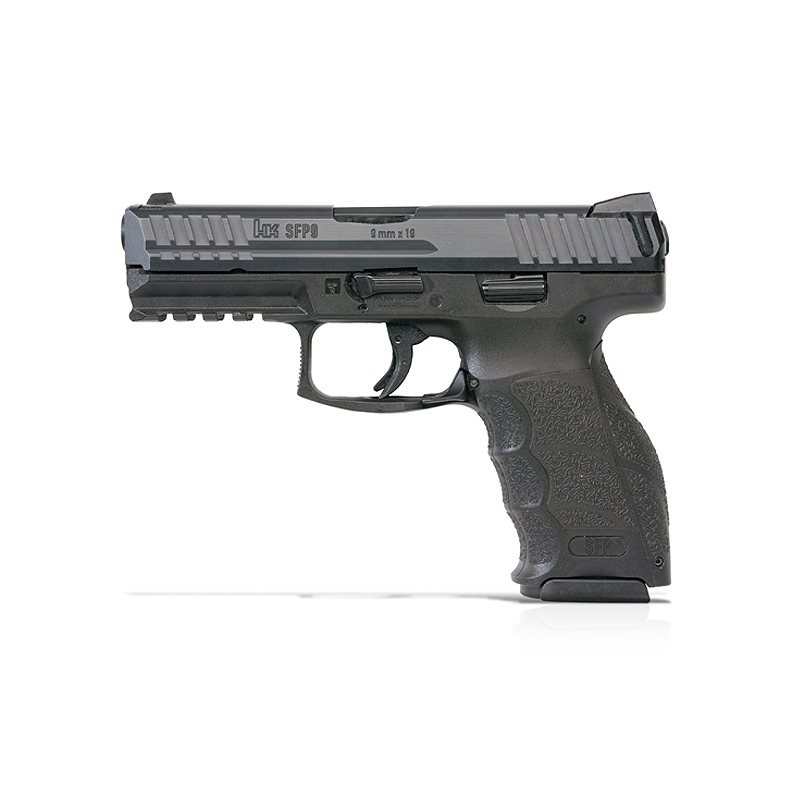Arma Real: (124, 189, 677, 607)
